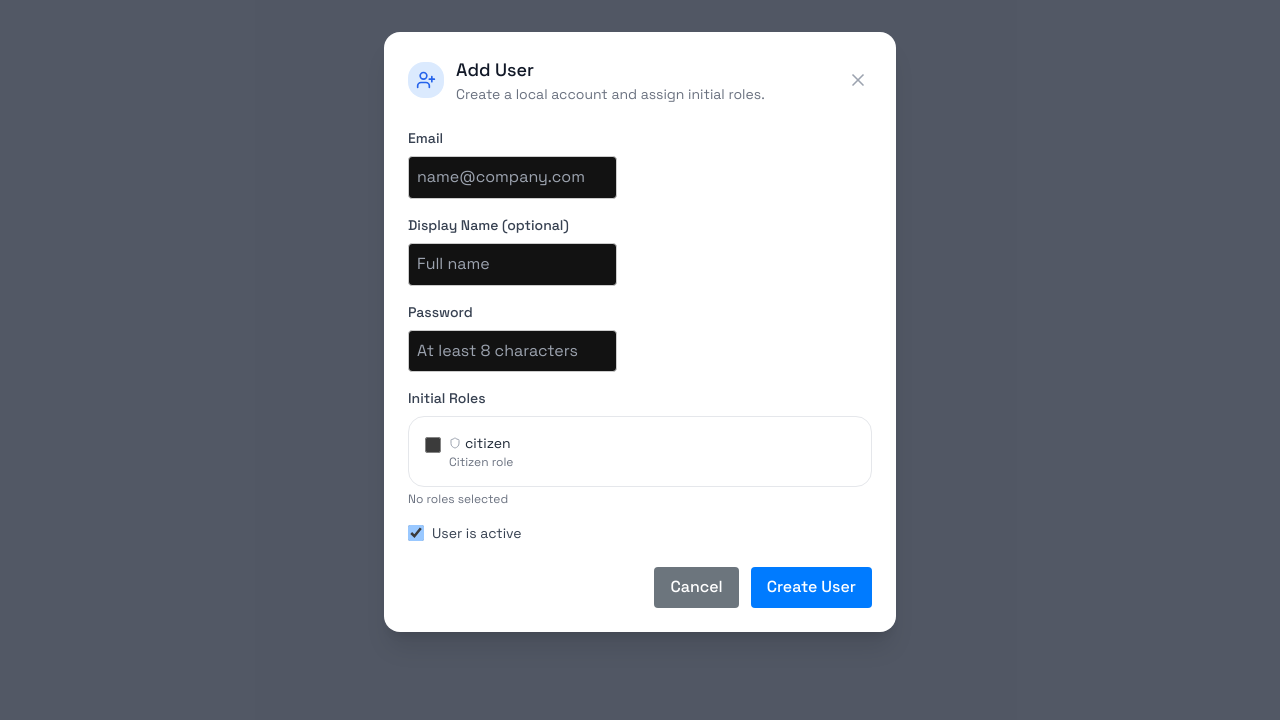
it: UserCreateModal › shows validation error when submitting empty form
Click the button "Create User" at point(811, 588), box top-left (751, 567), bottom-right (872, 608)
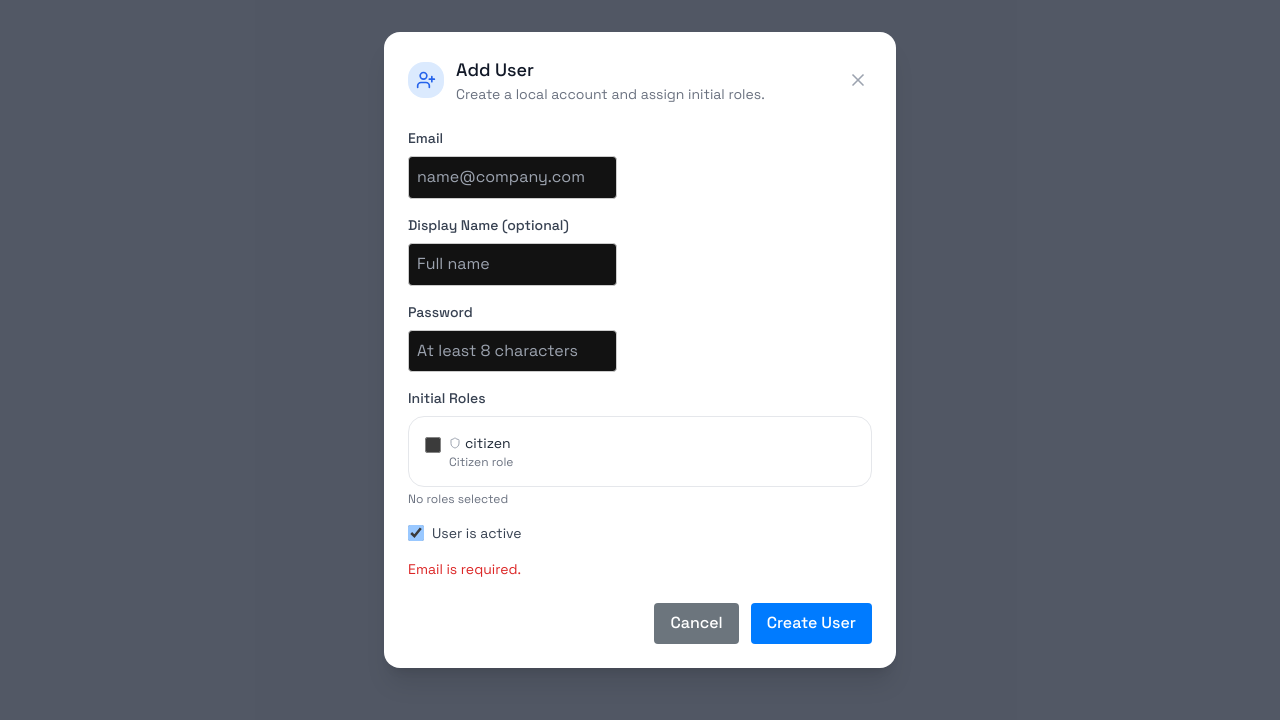
Check: the message shows "Email is required", box top-left (408, 560), bottom-right (521, 578)
